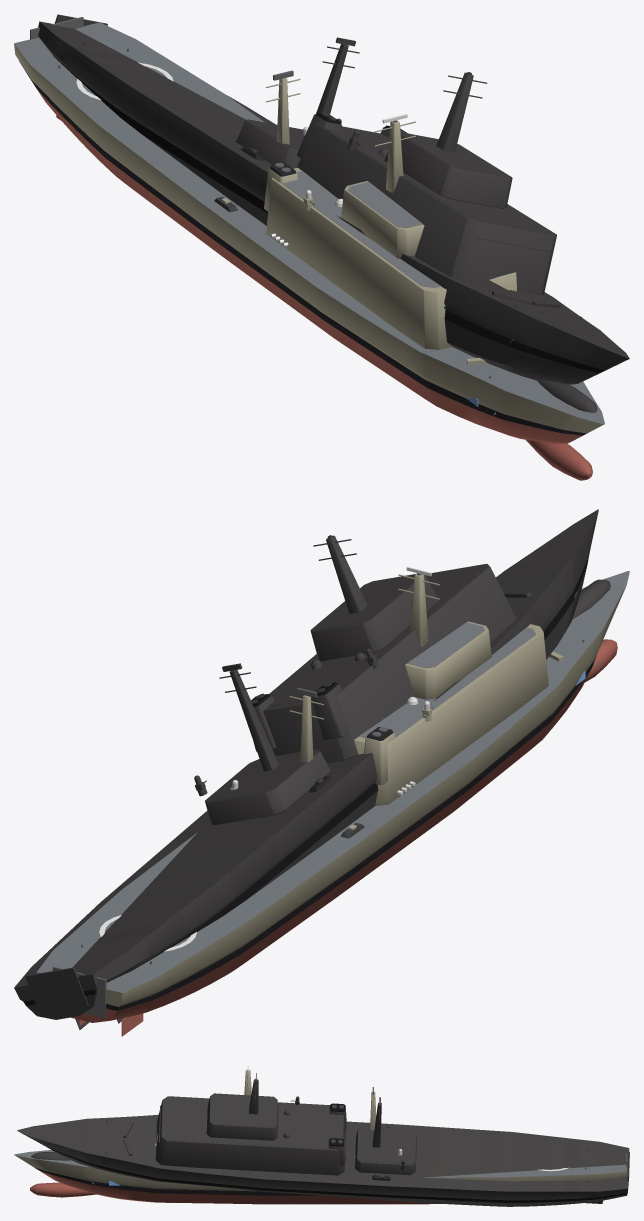
The model's file is landingShip__ins_jalashwa.glb.
The picture shows the model from 3 angles, top to bottom: view 1: azimuth 30°, elevation 25°; view 2: azimuth 150°, elevation 25°; view 3: azimuth 270°, elevation 25°; orthographic projection. The views are drawn at different scales.
Parts seen in each view (by area): view 1: Hull_Mesh, Wreck; view 2: Wreck, Hull_Mesh; view 3: Wreck, Hull_Mesh.
Boxes of the visible parts, left/top/right/bottom form: Hull_Mesh: left=14, top=17, right=604, bottom=480; Wreck: left=38, top=14, right=629, bottom=412; Wreck: left=14, top=509, right=610, bottom=1029; Hull_Mesh: left=36, top=571, right=629, bottom=1036; Wreck: left=17, top=1073, right=629, bottom=1206; Hull_Mesh: left=14, top=1070, right=627, bottom=1204.
Size of what is drawn, in the model's own units: 31.43 by 46.2 by 182.
